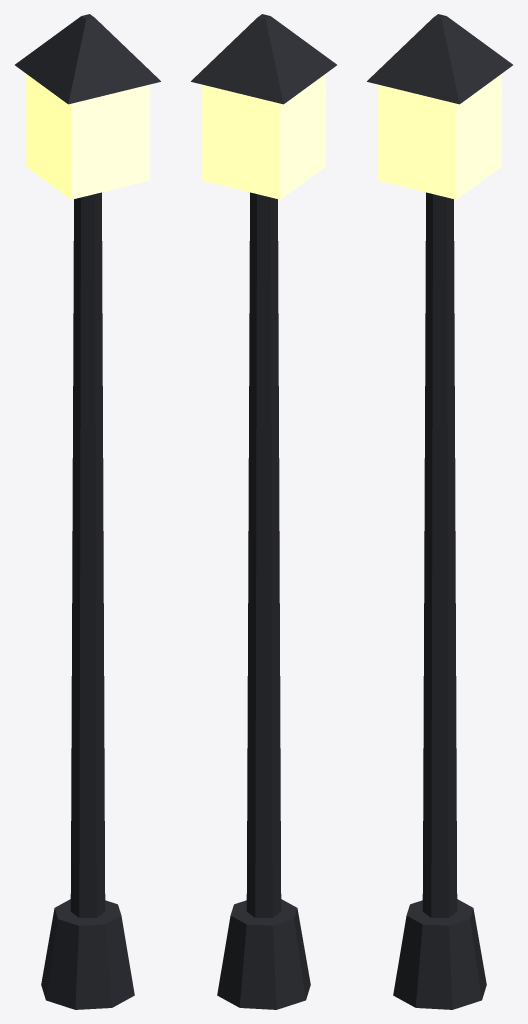
Rendered from lamppost.glb.
3 renders of one model, left to right at view 1: azimuth 30°, elevation 25°; view 2: azimuth 150°, elevation 25°; view 3: azimuth 330°, elevation 25°, orthographic.
Parts seen in each view (by area): view 1: lamppost; view 2: lamppost; view 3: lamppost.
Boxes of the visible parts, left/top/right/bottom form: lamppost: left=15, top=14, right=160, bottom=1009; lamppost: left=191, top=14, right=336, bottom=1009; lamppost: left=367, top=14, right=512, bottom=1009.
Size of the model in its own units: 0.3111 by 3.1 by 0.3111.
